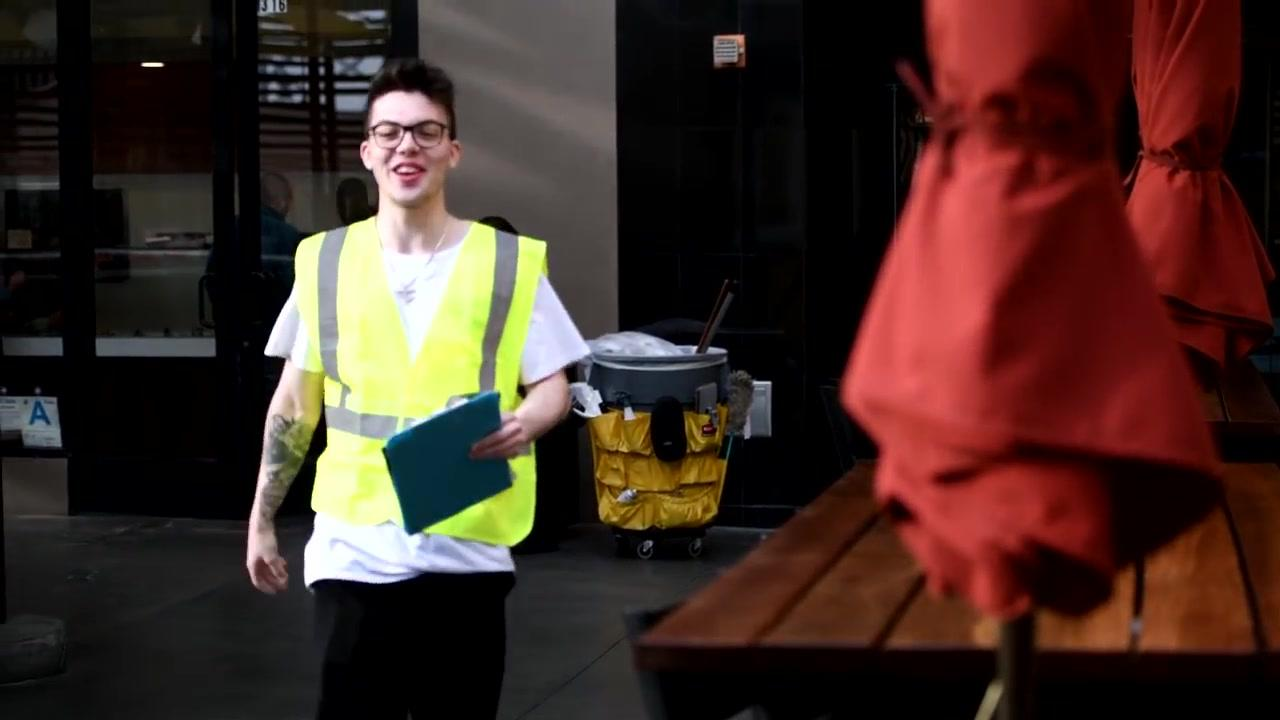Hi-Vis Jacket: (289, 225, 538, 546)
